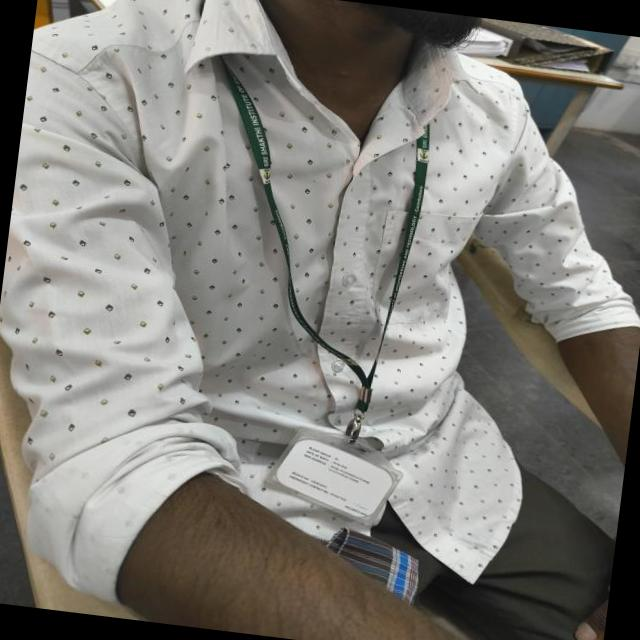id_card: (174, 59, 460, 518)
